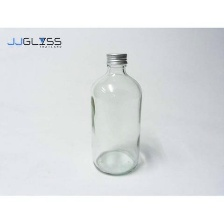bottle: (89, 50, 144, 177)
